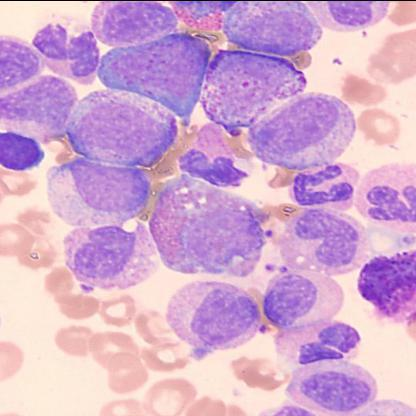Promyelocyte: (64, 88, 178, 168)
